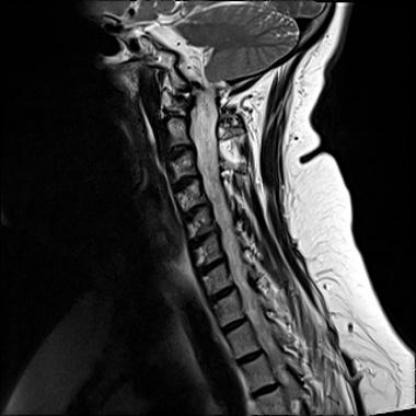Disc Bulgerotation: (187, 230, 223, 246)
